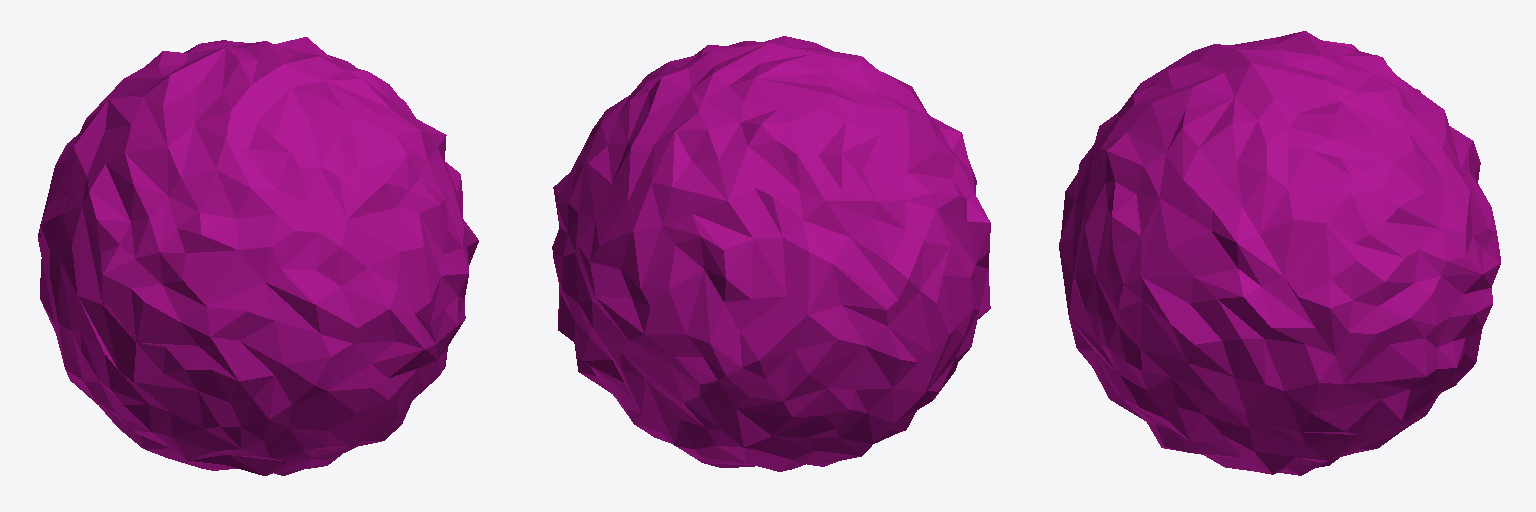
The model's file is Venus.obj.
The picture shows the model from 3 angles: view 1: azimuth 30°, elevation 25°; view 2: azimuth 150°, elevation 25°; view 3: azimuth 270°, elevation 25°; orthographic projection.
Parts seen in each view (by area): view 1: Venus; view 2: Venus; view 3: Venus.
Boxes of the visible parts, x1=… form: Venus: x1=38, y1=37, x2=478, y2=475; Venus: x1=552, y1=36, x2=990, y2=471; Venus: x1=1059, y1=31, x2=1500, y2=475.
Bounding box in the file's own units: 35.03 × 35.06 × 35.29.